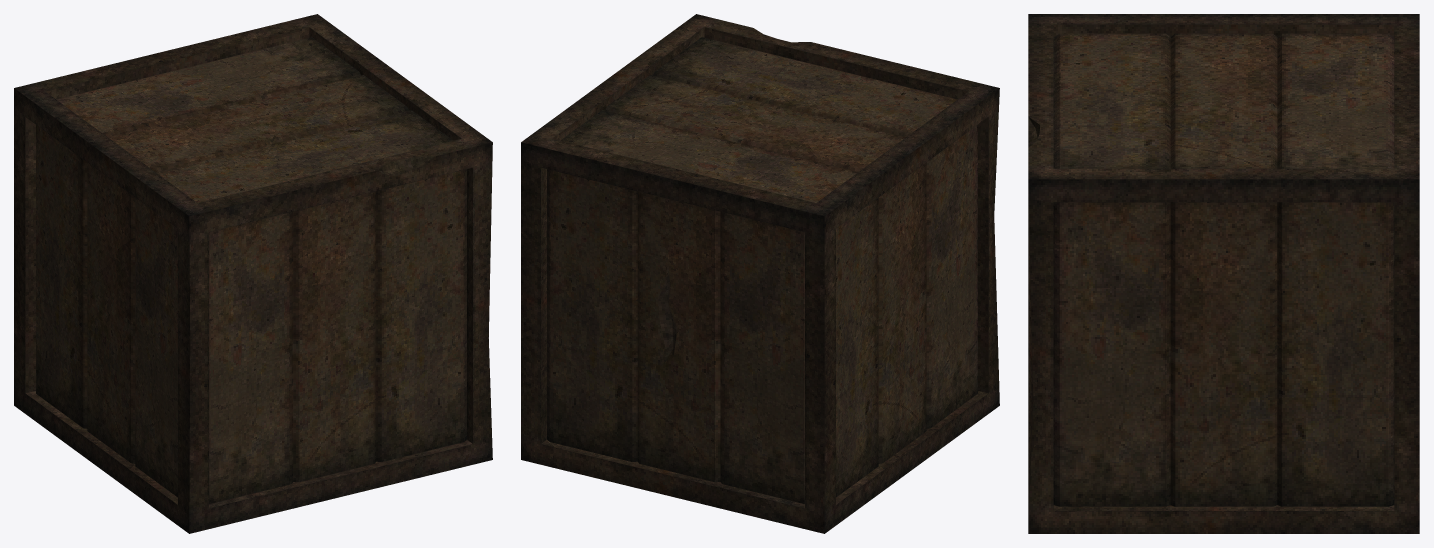
The model's file is wooden_crate_3_1.glb.
The picture shows the model from 3 angles, left to right: view 1: azimuth 30°, elevation 25°; view 2: azimuth 150°, elevation 25°; view 3: azimuth 270°, elevation 25°; orthographic projection. The views are drawn at different scales.
Visible parts, largest first — view 1: wooden_crate_3_1; view 2: wooden_crate_3_1; view 3: wooden_crate_3_1.
Part boxes in pixels (x1,y1,x2,y2): wooden_crate_3_1: [14, 14, 492, 533]; wooden_crate_3_1: [521, 14, 999, 533]; wooden_crate_3_1: [1028, 14, 1419, 533].
Bounding box in the file's own units: 1.08 × 1.08 × 1.08.
Materials: 1 (1 with a texture image).
